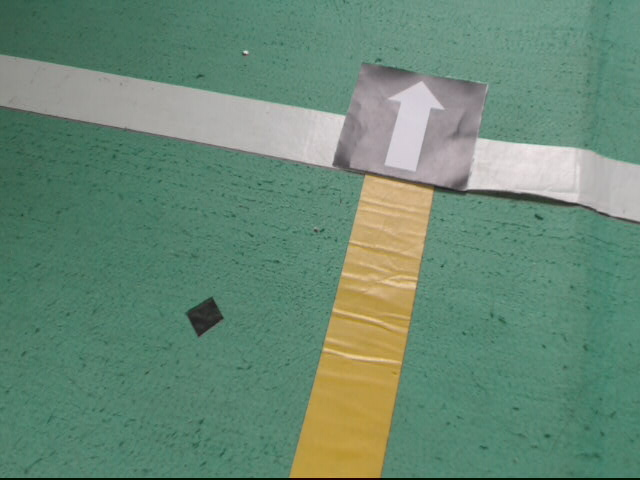straight: (332, 62, 489, 192)
